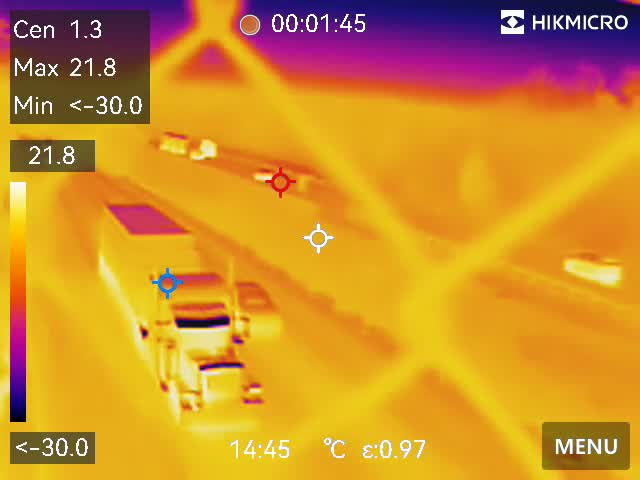heavyTruck: (97, 197, 262, 434), (156, 131, 217, 157)
vehicle: (234, 272, 281, 335), (564, 247, 622, 288), (246, 167, 276, 185)
